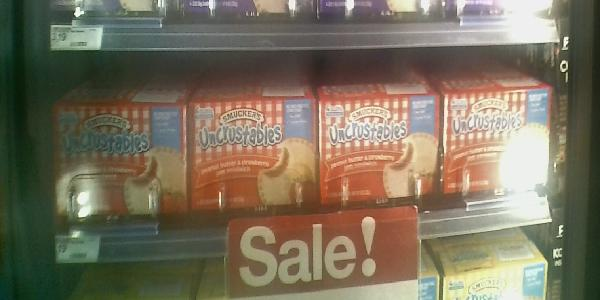icecream: (56, 95, 193, 232), (189, 94, 319, 220), (319, 86, 443, 217), (445, 76, 558, 214)
